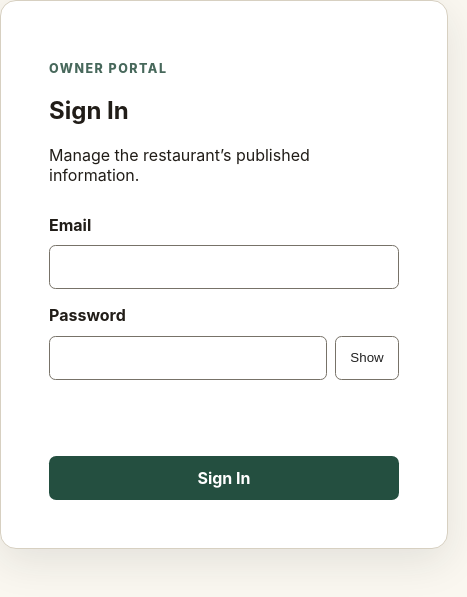
Test: owner authentication controls › clears the password and reports throttling without revealing account state
In the field labelled "Email": (224, 267) [49,245,399,289], type "owner@example.test"
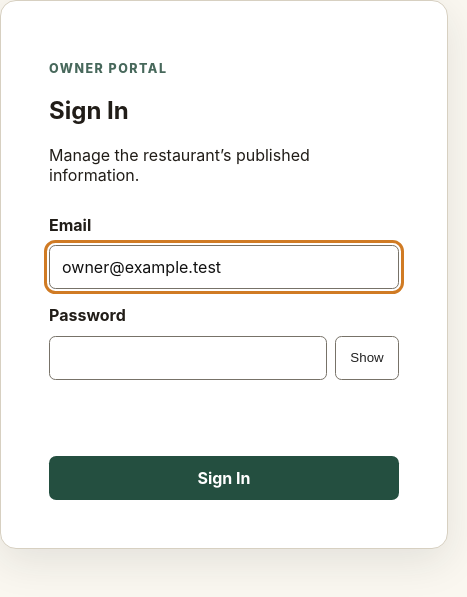
In the password field labelled "Password": (188, 358) [49,336,327,380], type "wrong-password"
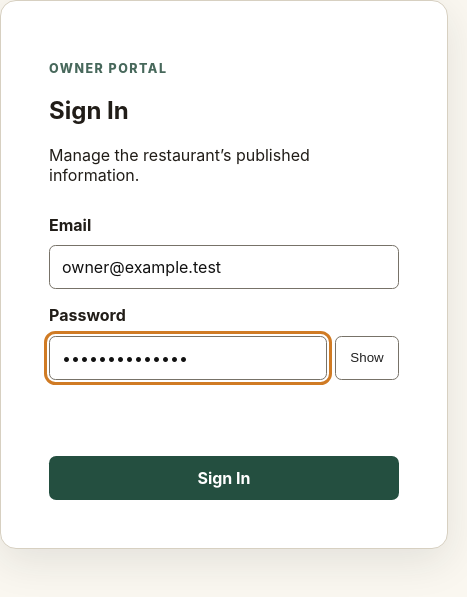
Click the button "Sign In": (224, 478) [49,456,399,500]
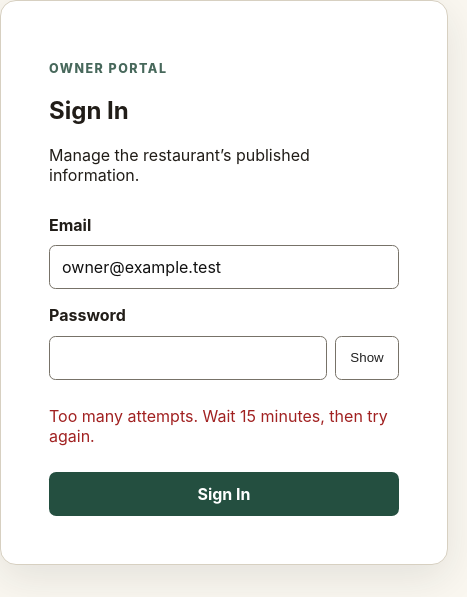
Expected: the message shows "Too many attempts", [49,406,388,446]
Expected: the password field labelled "Password" is empty, [49,336,327,380]
